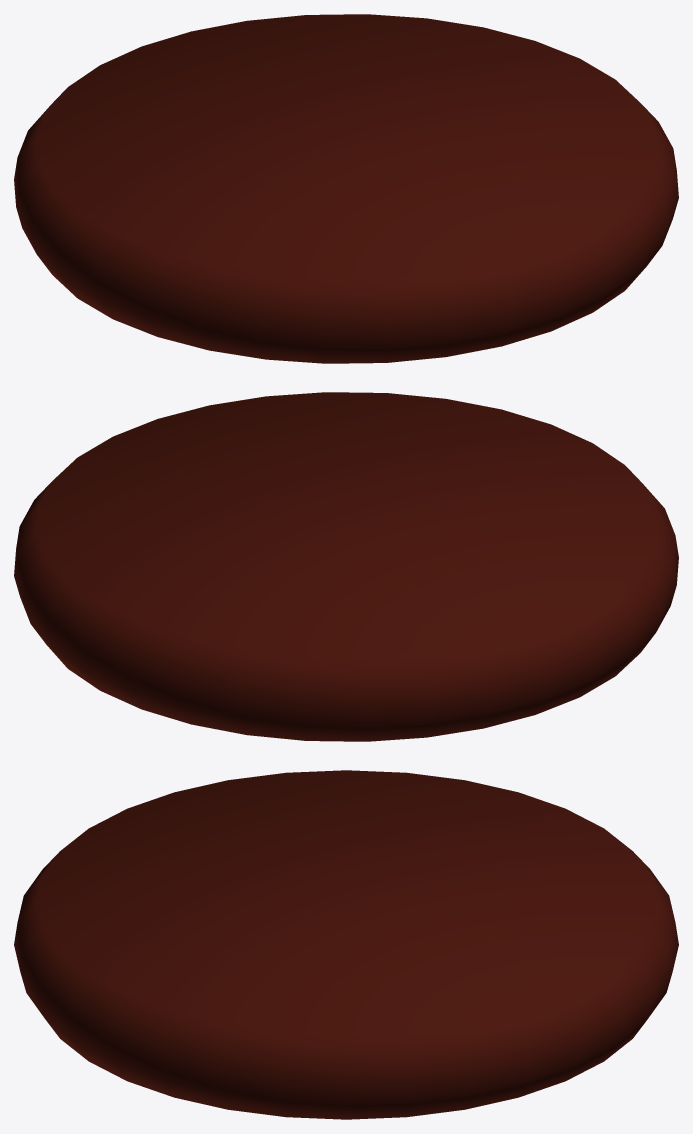
File: hamburguer.glb
The picture shows the model from 3 angles, top to bottom: view 1: azimuth 30°, elevation 25°; view 2: azimuth 150°, elevation 25°; view 3: azimuth 270°, elevation 25°; orthographic projection.
Parts seen in each view (by area): view 1: Sphere; view 2: Sphere; view 3: Sphere.
Part boxes in pixels (left/top/right/bottom): Sphere: left=14, top=14, right=678, bottom=363; Sphere: left=14, top=392, right=678, bottom=741; Sphere: left=14, top=770, right=678, bottom=1119.
Bounding box in the file's own units: 1.98 × 0.2877 × 1.98.
